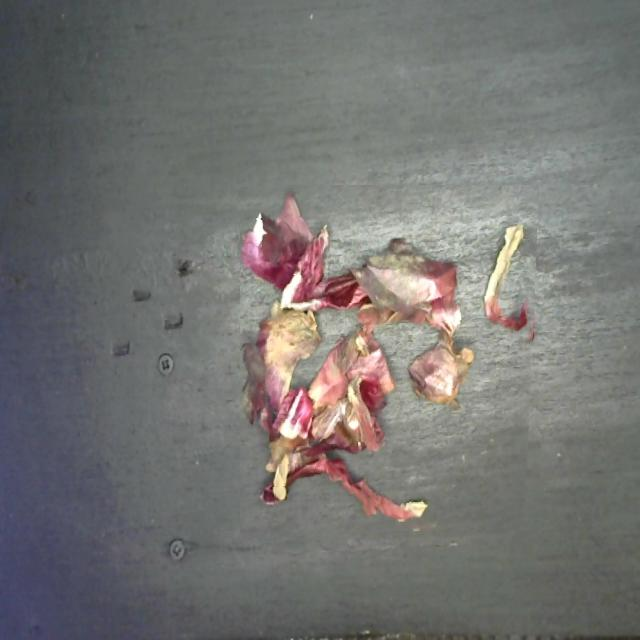biodegradable: (240, 185, 540, 540)
